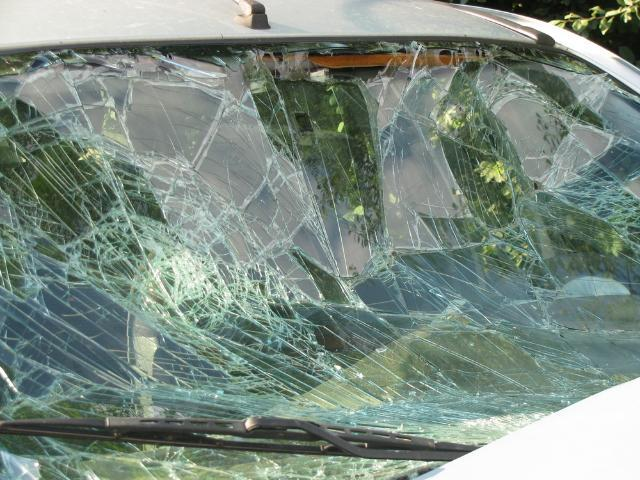glass shatter: (0, 39, 640, 480)
